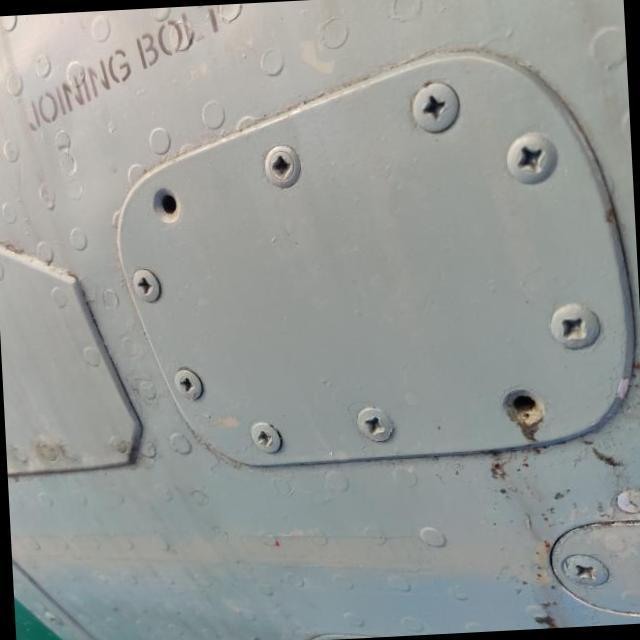Fastener Damage: (485, 372, 562, 451), (133, 168, 201, 244)
